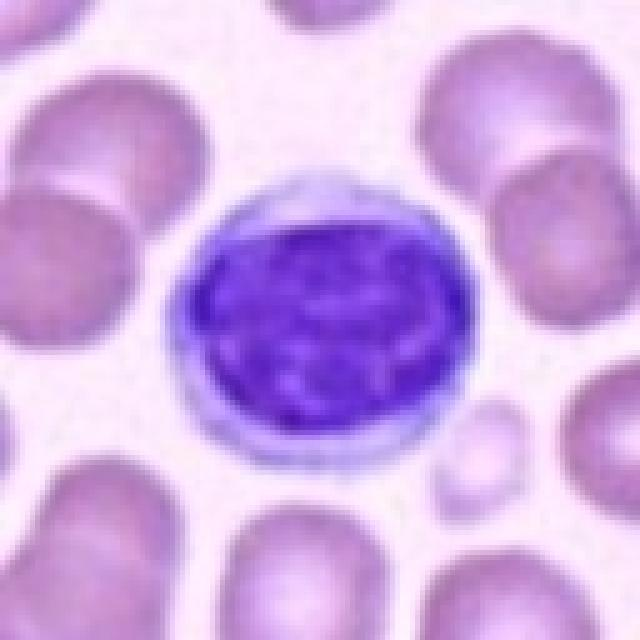lympho: (148, 158, 498, 481)
